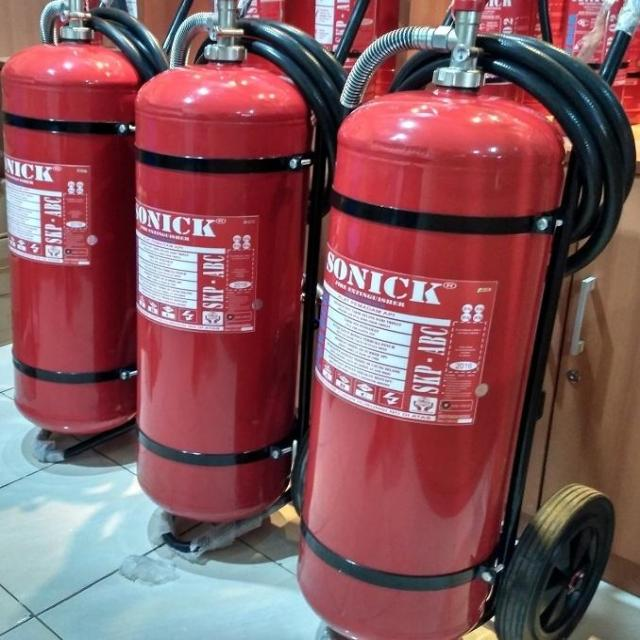fire_extinguisher: (285, 0, 639, 637), (126, 0, 371, 526), (0, 0, 181, 442)
